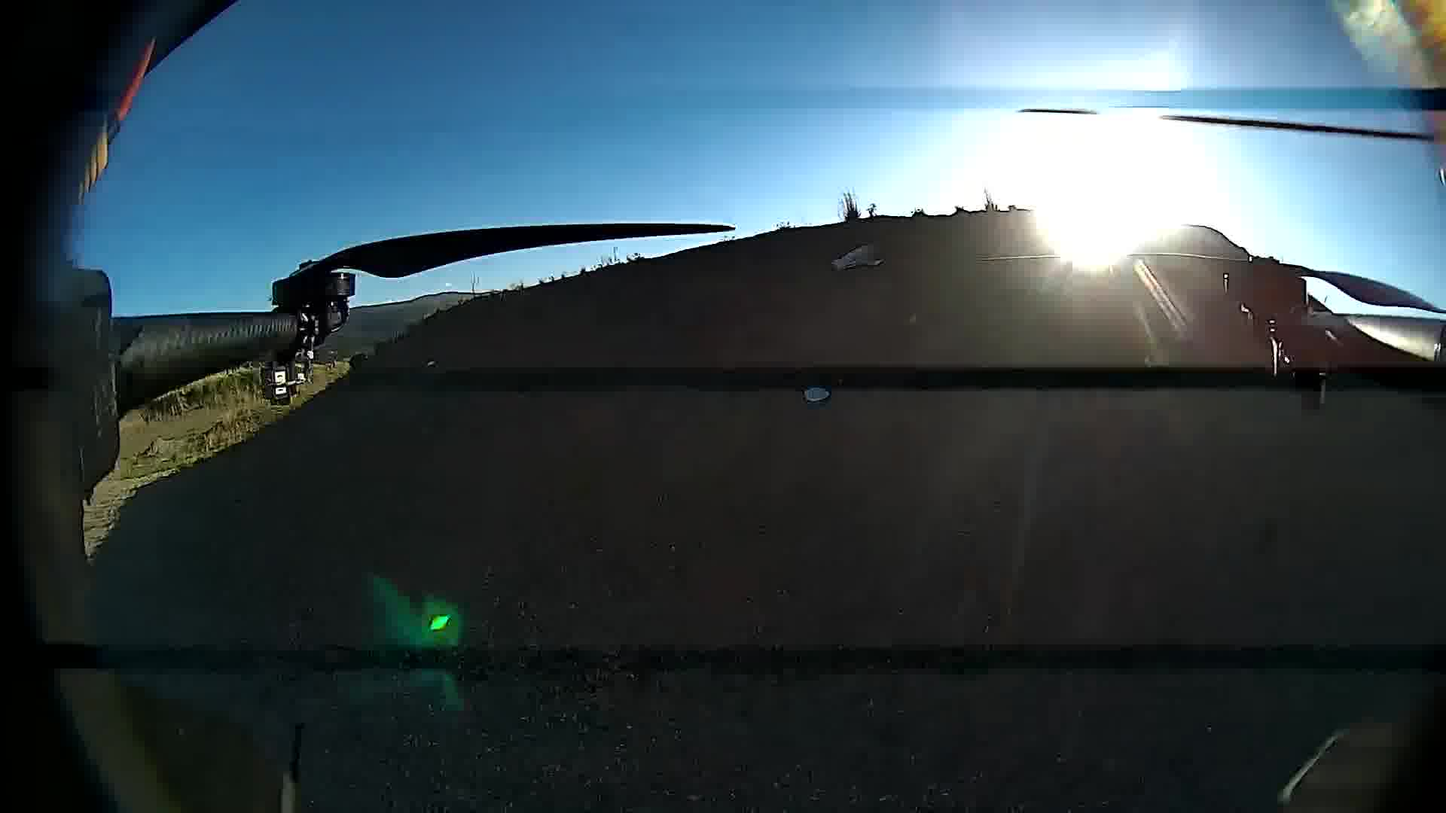Target: (799, 386, 835, 405)
